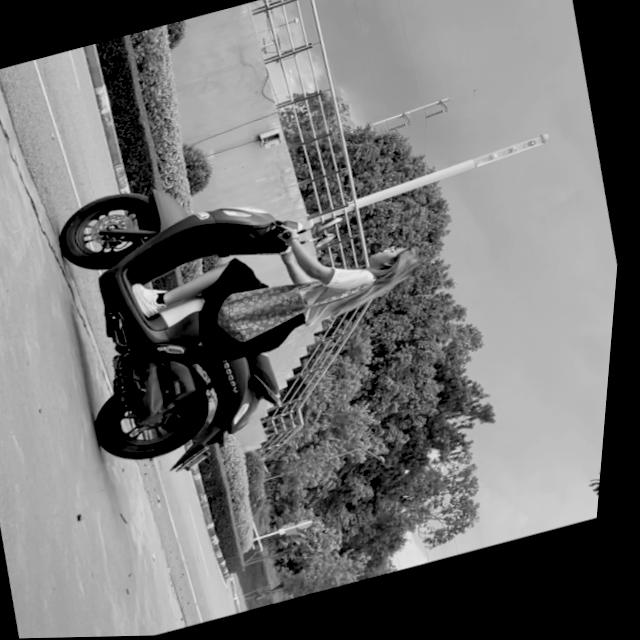seatbelt: (364, 240, 433, 292)
